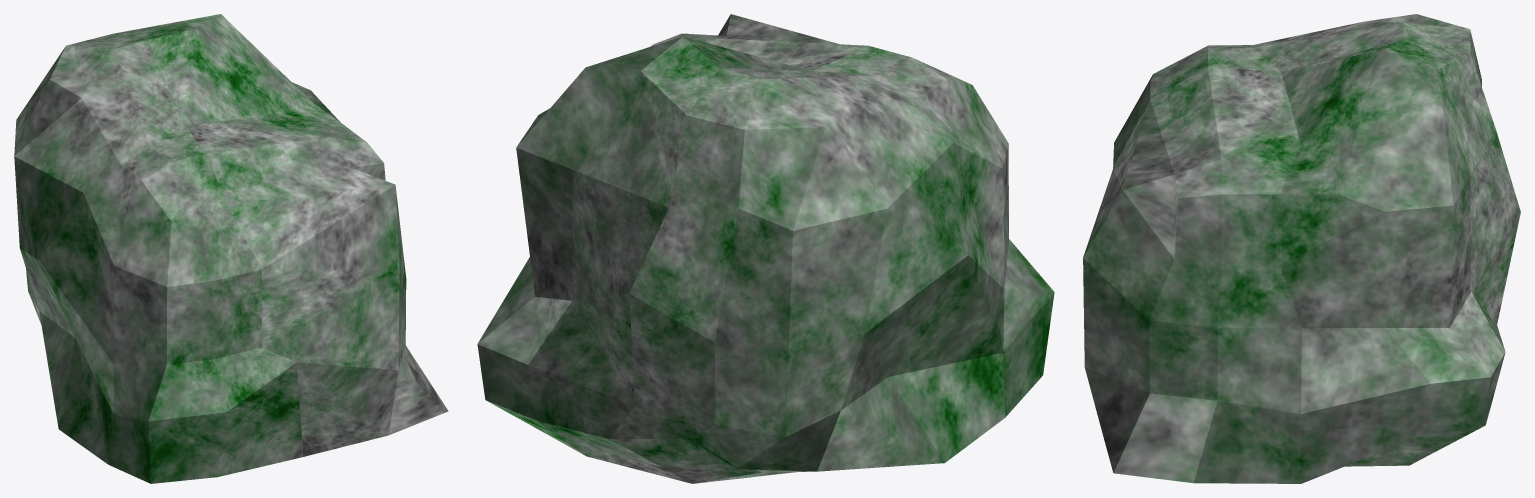
The model's file is Rock.fbx.
3 views of the same model, side by side, from view 1: azimuth 30°, elevation 25°; view 2: azimuth 150°, elevation 25°; view 3: azimuth 270°, elevation 25° (orthographic). The views are drawn at different scales.
Visible parts, largest first — view 1: Cube; view 2: Cube; view 3: Cube.
Part boxes in pixels (box(x1,y1,x2,y2)): Cube: box(14, 14, 448, 483); Cube: box(477, 14, 1054, 483); Cube: box(1083, 14, 1520, 483).
Size of the model in its own units: 1.99 by 1.92 by 1.99.
